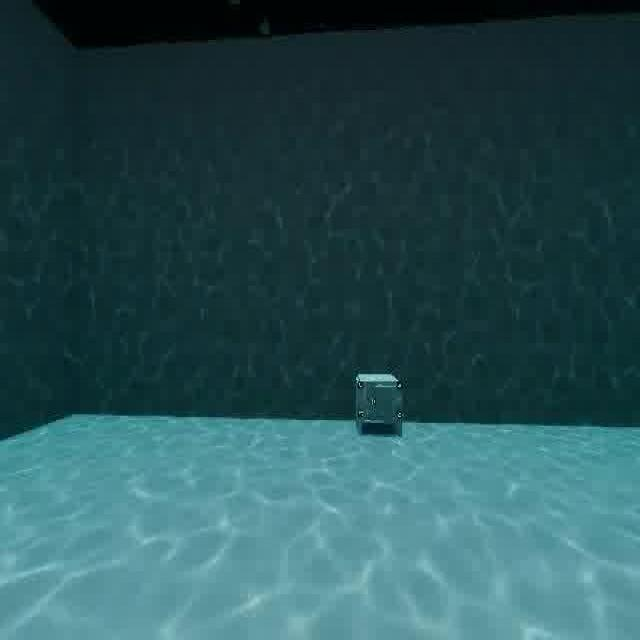Docking Station: (350, 365, 413, 447)
